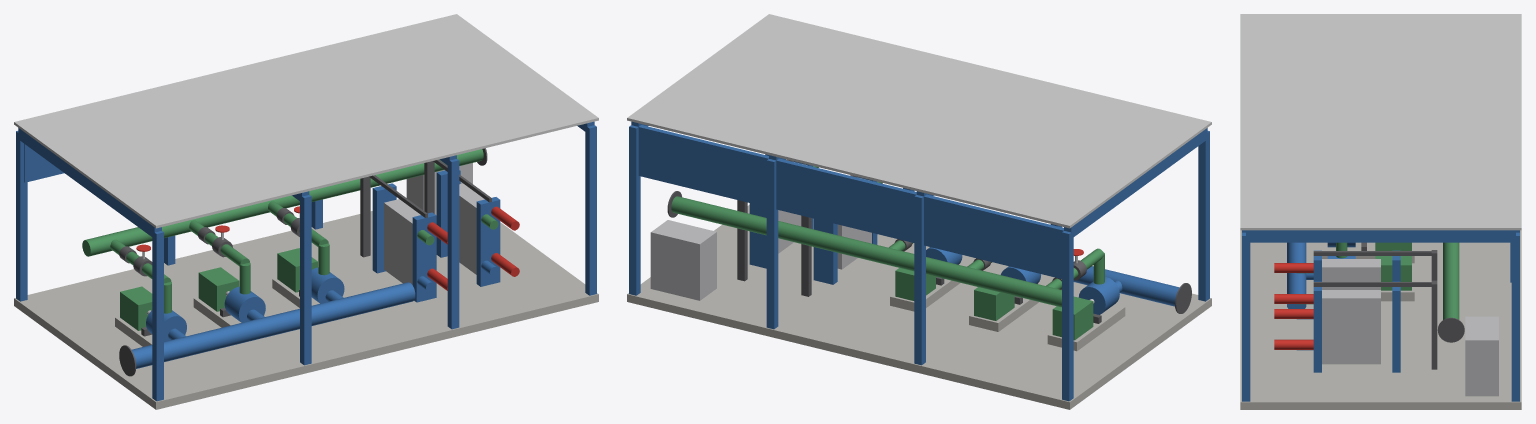
Rendered from SM_CoolingWaterPumpStation.fbx.
The picture shows the model from 3 angles, left to right: view 1: azimuth 30°, elevation 25°; view 2: azimuth 150°, elevation 25°; view 3: azimuth 270°, elevation 25°; orthographic projection.
Parts seen in each view (by area): view 1: WCP_Station; view 2: WCP_Station; view 3: WCP_Station.
Boxes of the visible parts, x1,y1,x2,y2 form: WCP_Station: (14, 14, 598, 409); WCP_Station: (627, 14, 1211, 409); WCP_Station: (1240, 14, 1521, 409).
Size of the model in its own units: 1802 by 715 by 1000.
